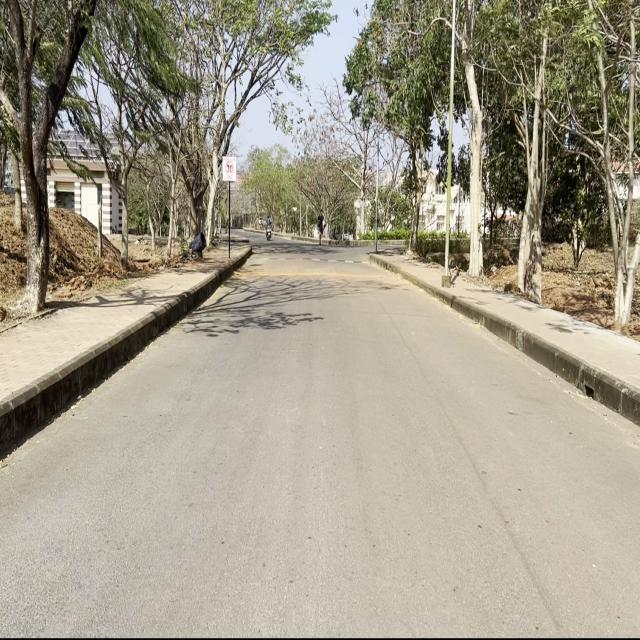Road: (1, 238, 638, 633)
